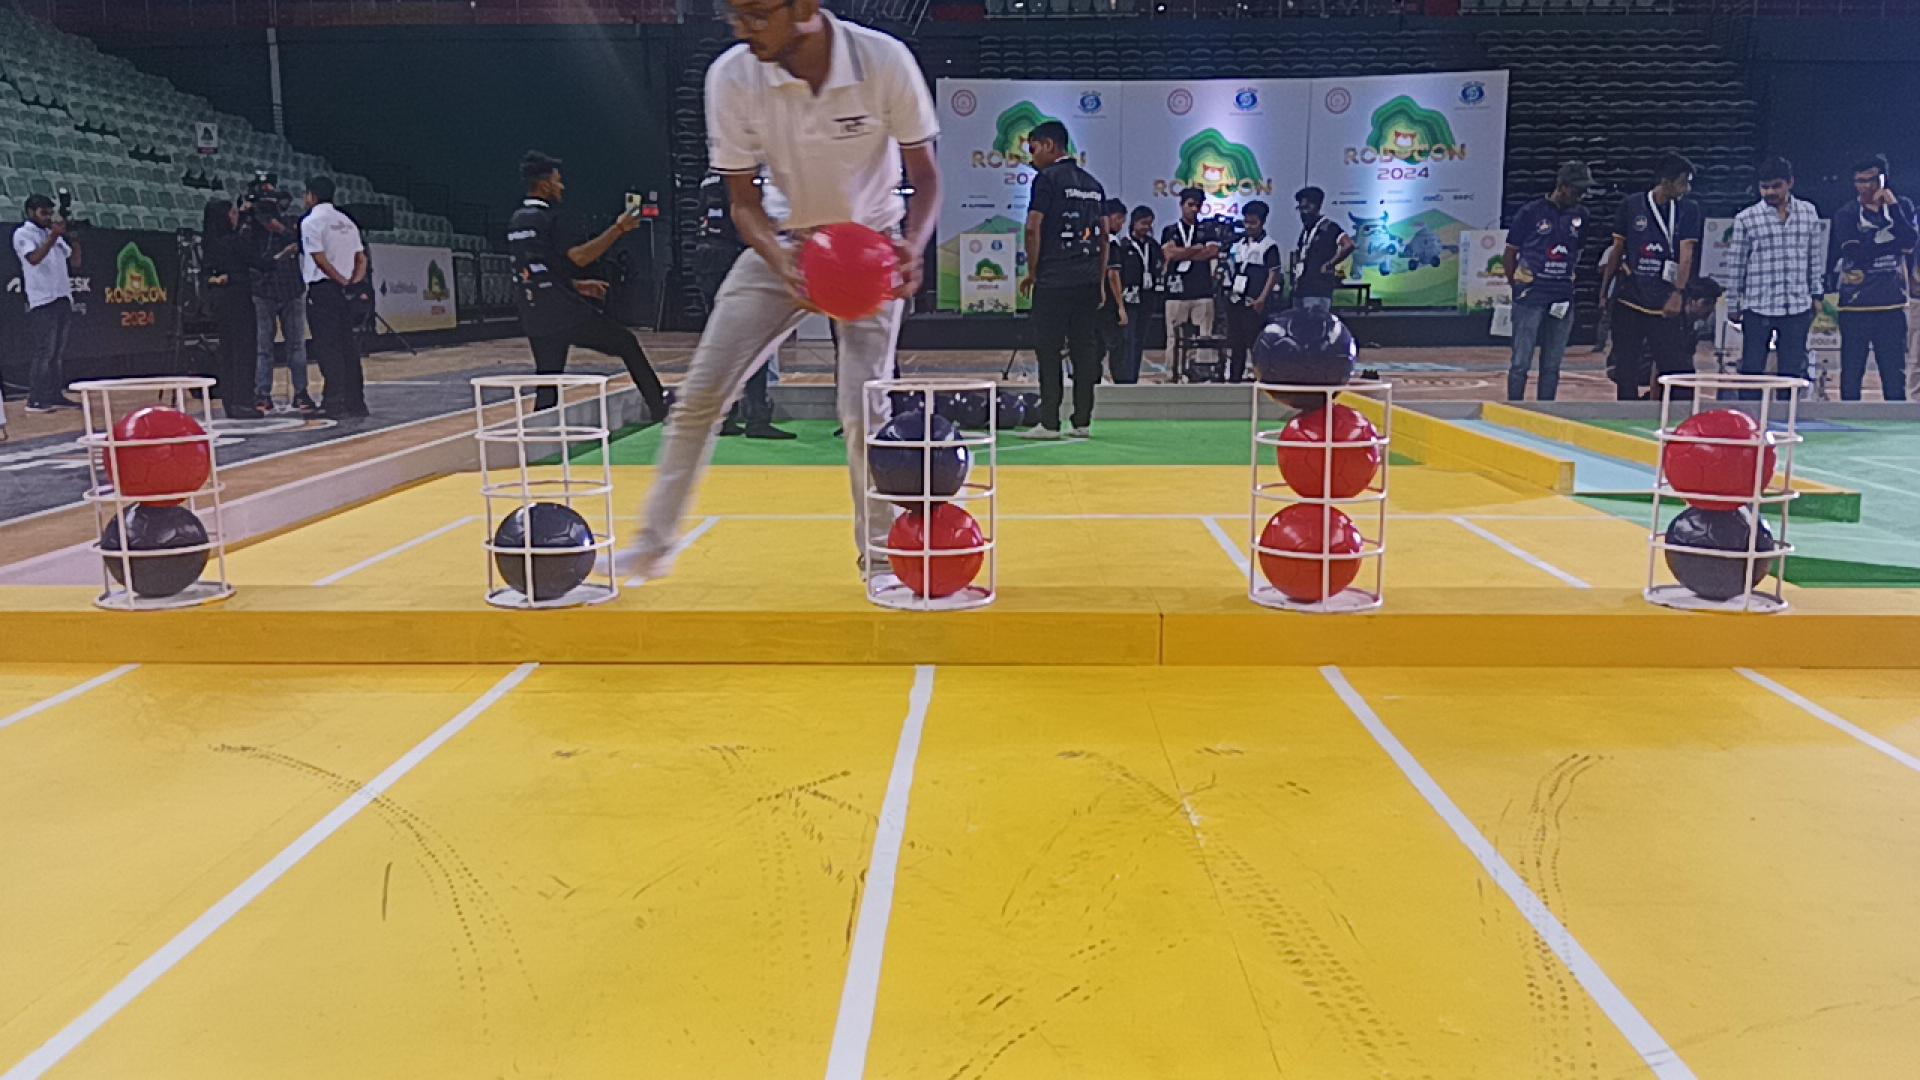dhoka: (1253, 307, 1357, 413), (866, 409, 972, 510), (1665, 506, 1778, 601), (98, 506, 210, 600), (495, 502, 596, 604)
laale: (1662, 409, 1778, 510), (102, 405, 214, 506), (1261, 502, 1365, 604), (889, 502, 986, 600), (1279, 405, 1379, 498)
